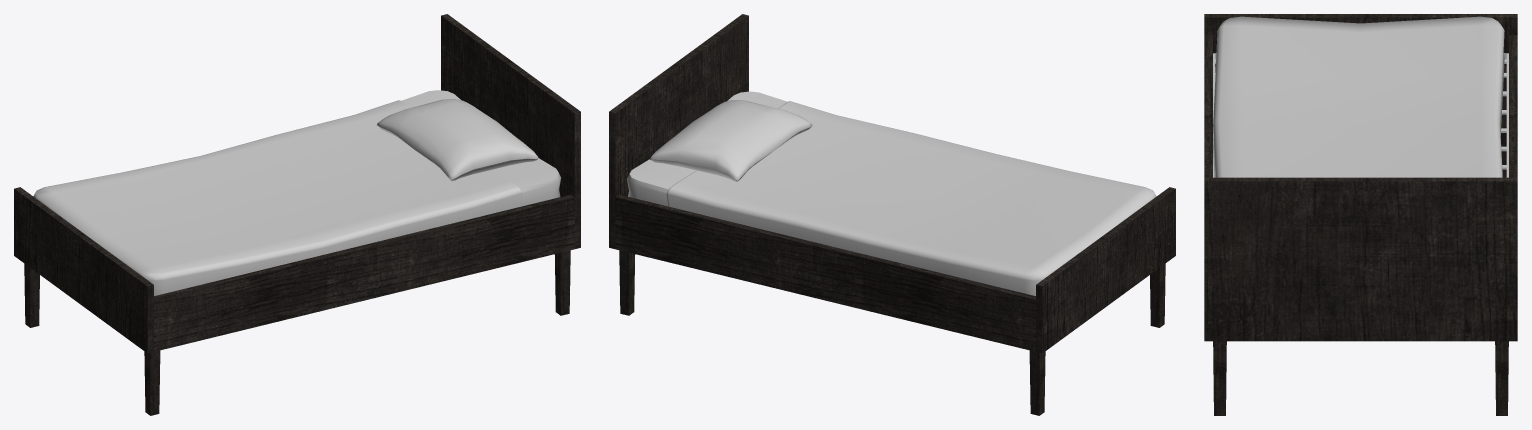
Rendered from bed_3_b_made.obj.
3 renders of one model, left to right at view 1: azimuth 30°, elevation 25°; view 2: azimuth 150°, elevation 25°; view 3: azimuth 270°, elevation 25°, orthographic. The views are drawn at different scales.
Visible parts, largest first — view 1: bed_3_b_made; view 2: bed_3_b_made; view 3: bed_3_b_made.
Boxes of the visible parts, <box> form: bed_3_b_made: <box>14,14,580,415</box>; bed_3_b_made: <box>609,14,1175,415</box>; bed_3_b_made: <box>1204,14,1517,415</box>.
Size of the model in its own units: 2.7 by 1.21 by 1.44.
